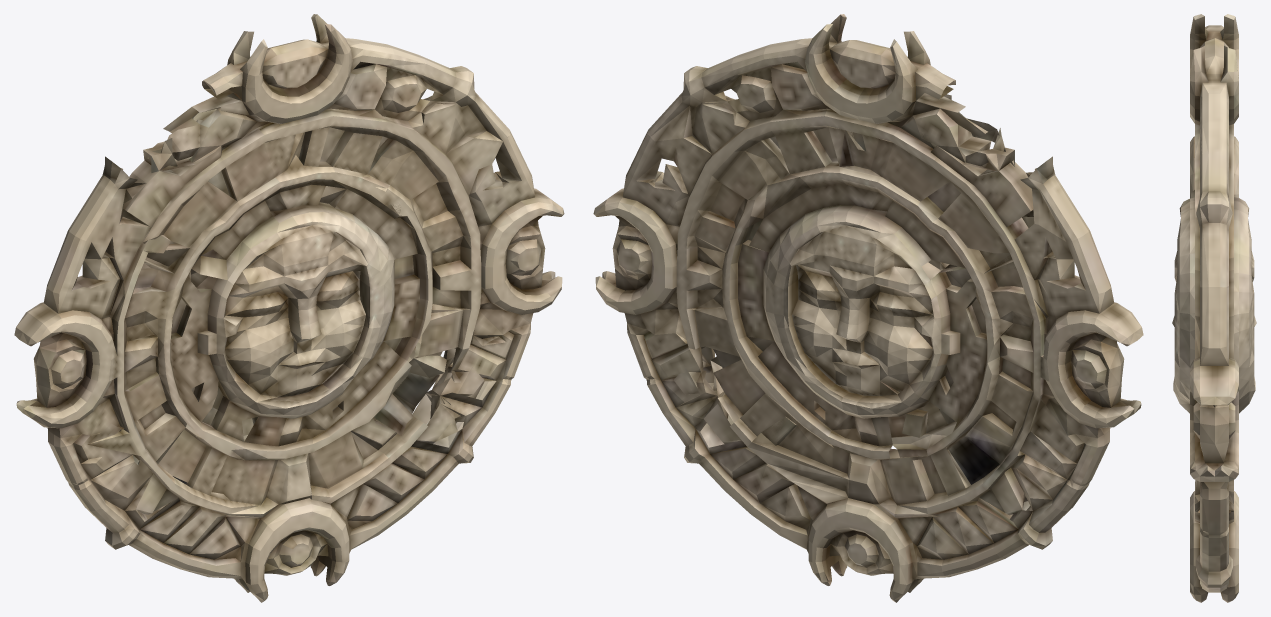
Rendered from moon.glb.
The picture shows the model from 3 angles, left to right: view 1: azimuth 30°, elevation 25°; view 2: azimuth 150°, elevation 25°; view 3: azimuth 270°, elevation 25°; orthographic projection.
Parts seen in each view (by area): view 1: Mesh_0; view 2: Mesh_0; view 3: Mesh_0.
Boxes of the visible parts, x1,y1,x2,y2 form: Mesh_0: [14, 14, 564, 602]; Mesh_0: [593, 14, 1143, 602]; Mesh_0: [1172, 14, 1256, 602].
Bounding box in the file's own units: 1.91 × 1.9 × 0.2622.
Materials: 1 (1 with a texture image).
